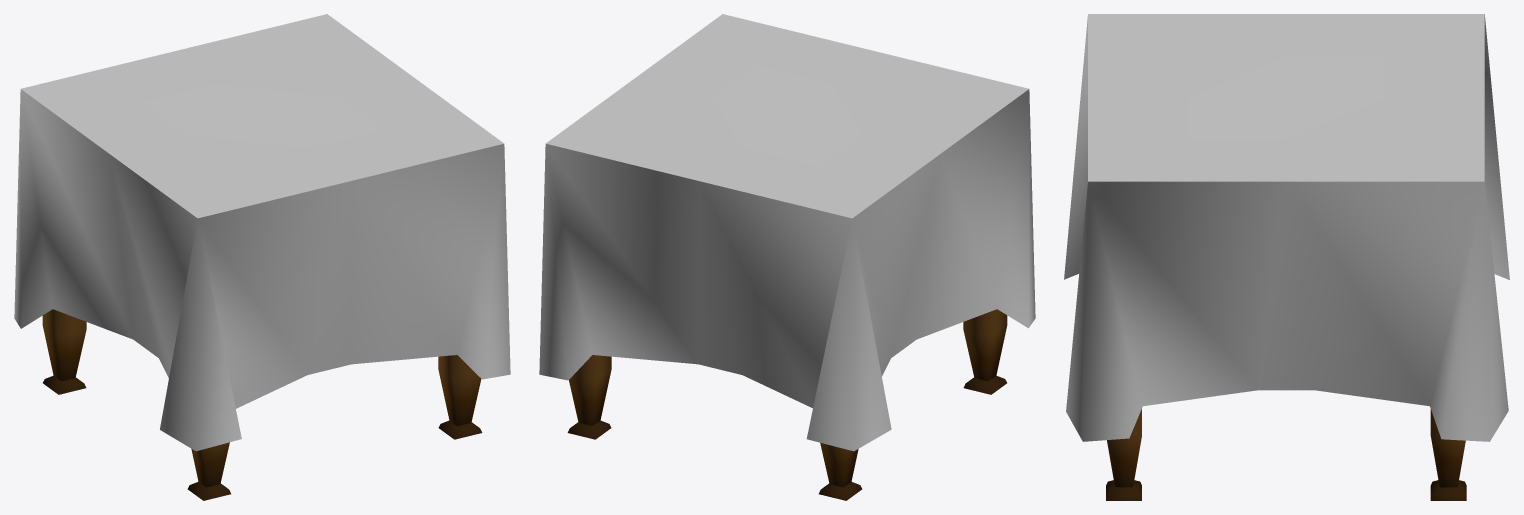
The model's file is H&J_Mesa.fbx.
3 renders of one model, left to right at view 1: azimuth 30°, elevation 25°; view 2: azimuth 150°, elevation 25°; view 3: azimuth 270°, elevation 25°, orthographic. The views are drawn at different scales.
Visible parts, largest first — view 1: LAGS_MesaMadera; view 2: LAGS_MesaMadera; view 3: LAGS_MesaMadera.
Part boxes in pixels (x1=…): LAGS_MesaMadera: x1=14, y1=14, x2=510, y2=500; LAGS_MesaMadera: x1=539, y1=14, x2=1035, y2=500; LAGS_MesaMadera: x1=1064, y1=14, x2=1509, y2=500.
Size of the model in its own units: 124 by 100 by 124.
